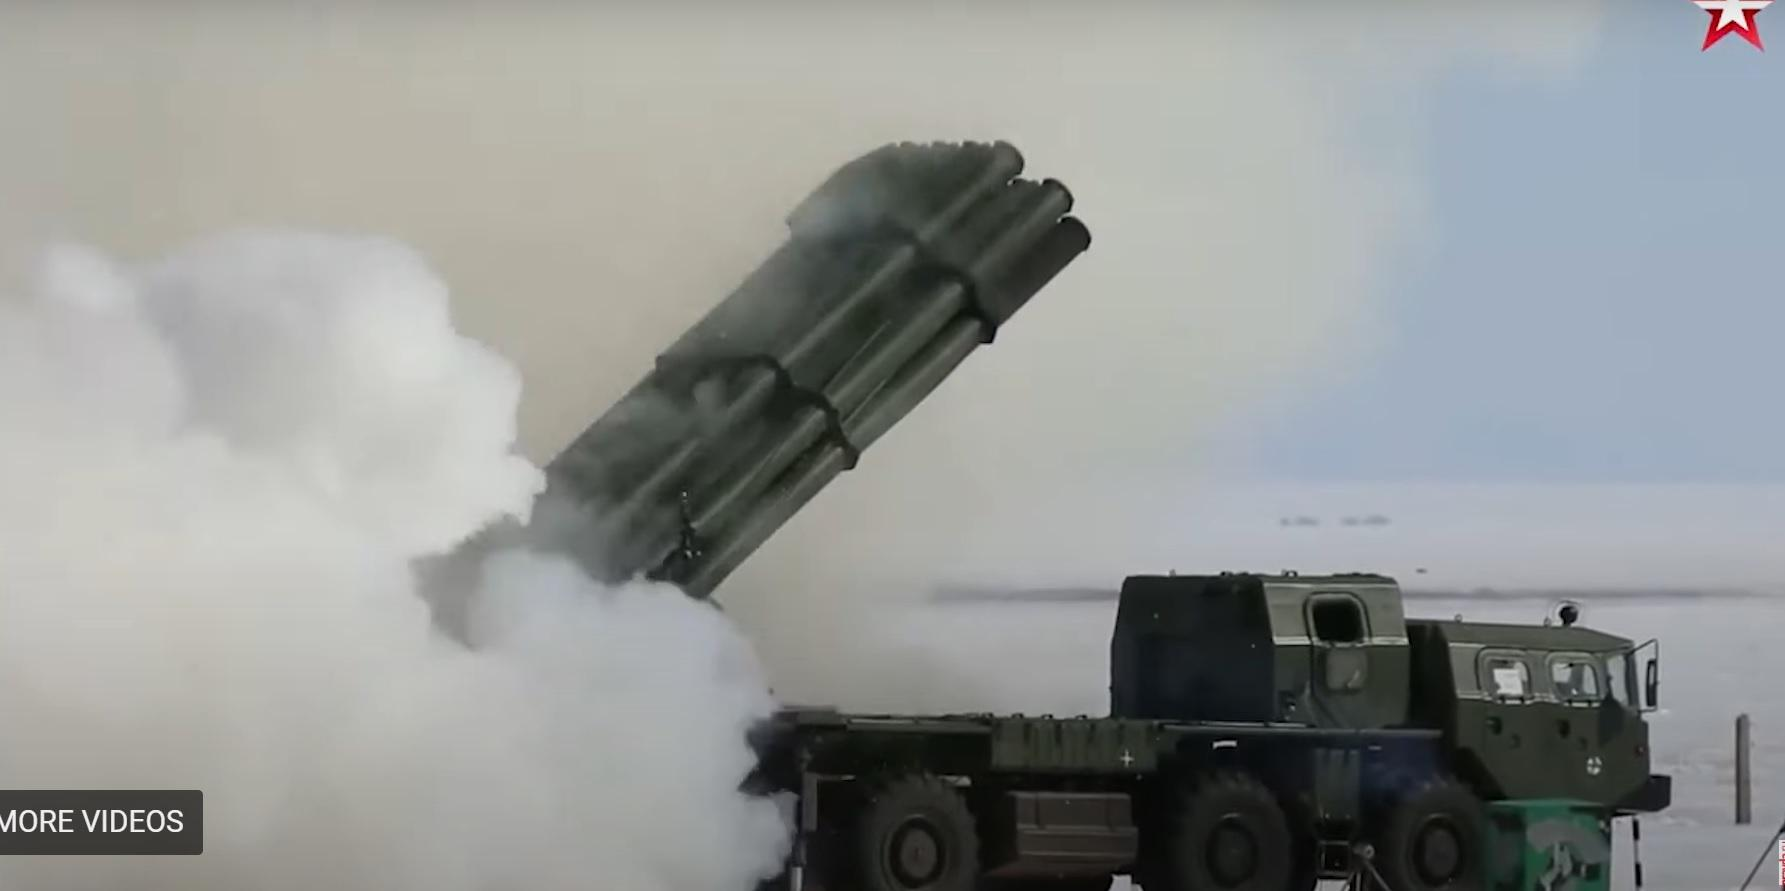MIL_SAM_TEL: (377, 134, 1656, 891)
